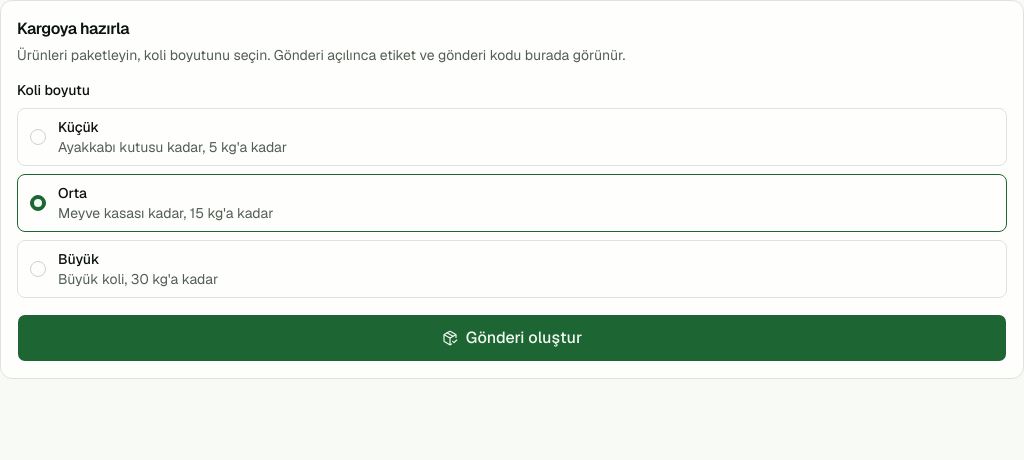
Scenario: PrepareShipment › sunucunun iş kuralı hatasını (telefon yok) olduğu gibi gösterir
Step 1. Click the button "Gönderi oluştur" → x=512, y=338, box x1=17 y1=314 x2=1007 y2=362
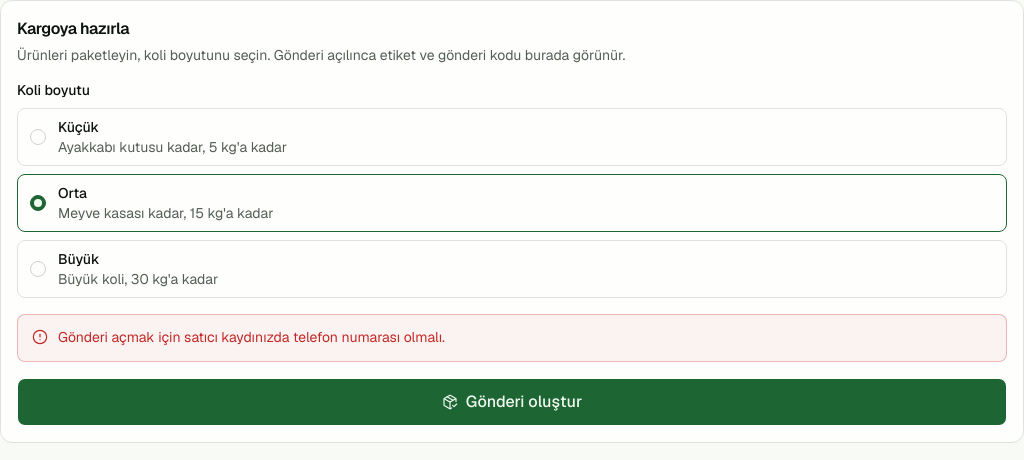
expect the text "Gönderi açmak için satıcı kaydınızda telefon numarası olmalı." is shown: met, box x1=58 y1=328 x2=445 y2=346
